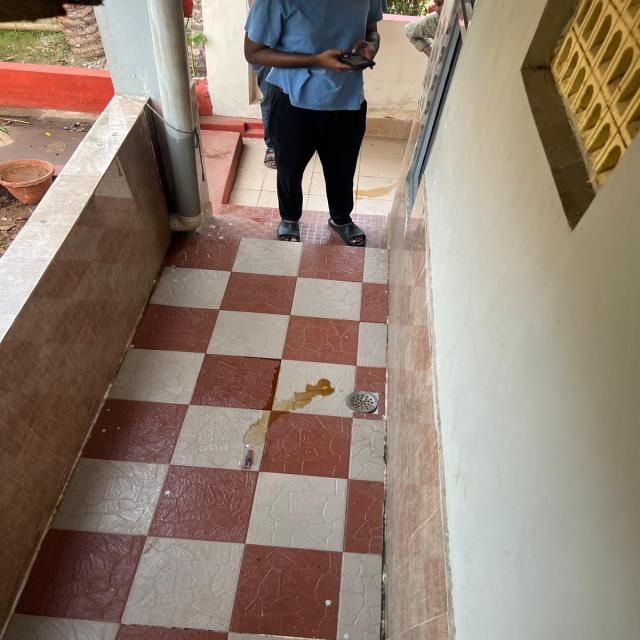cup: (238, 444, 260, 472)
spill: (241, 378, 337, 446)
